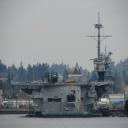Portanaves: (12, 13, 115, 117)
